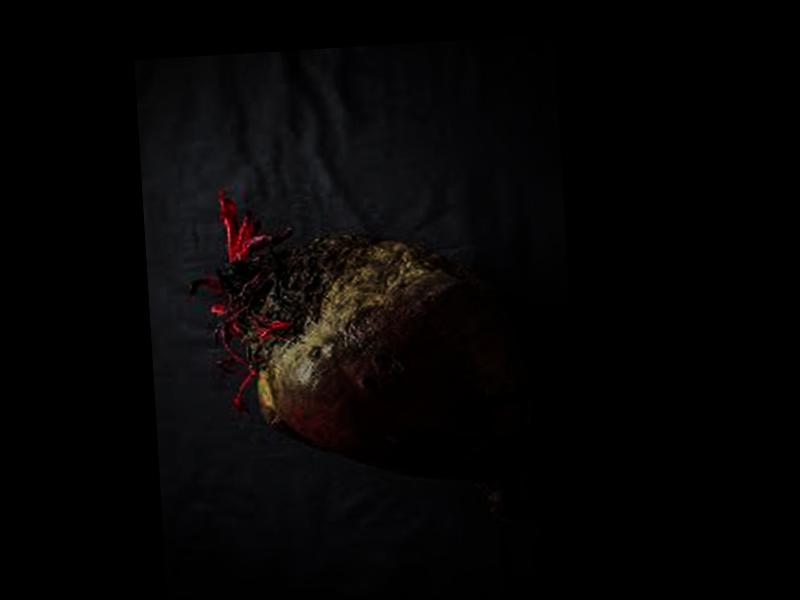Beet: (184, 174, 537, 541)
